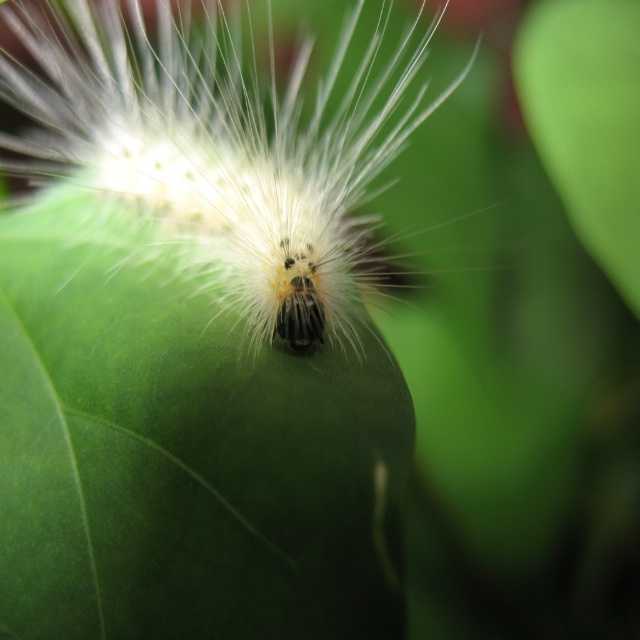Caterpillar: (0, 0, 506, 375)
